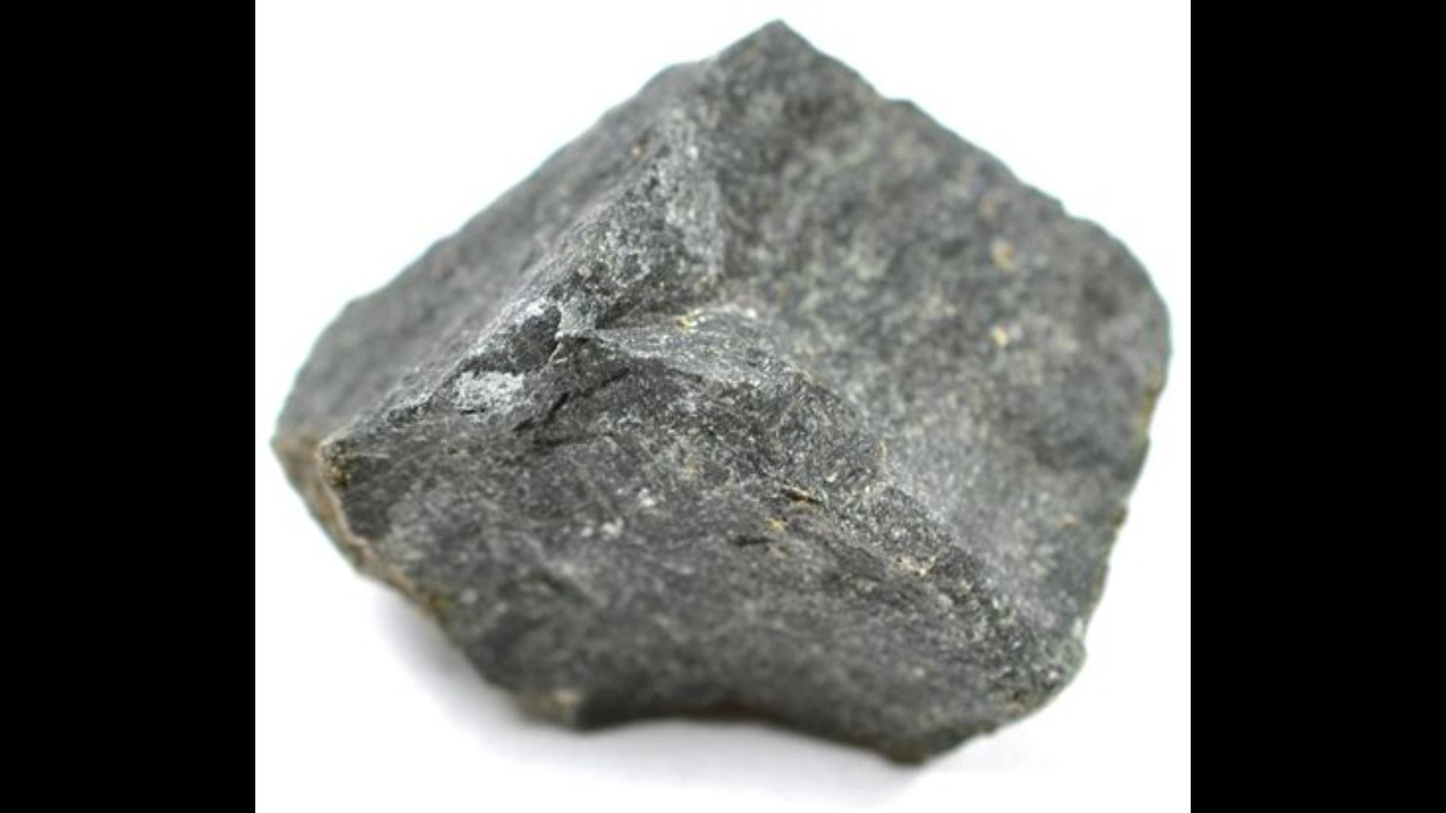rock: (277, 26, 1167, 760)
